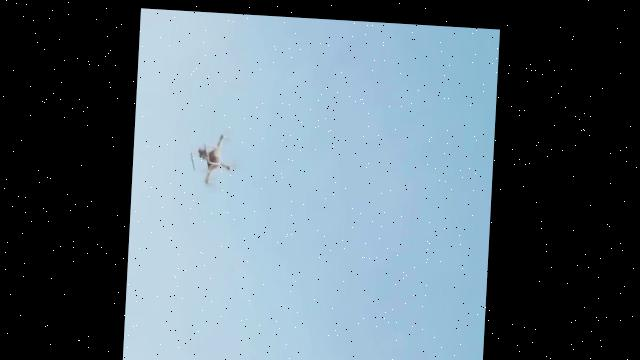drone: (181, 113, 247, 198)
